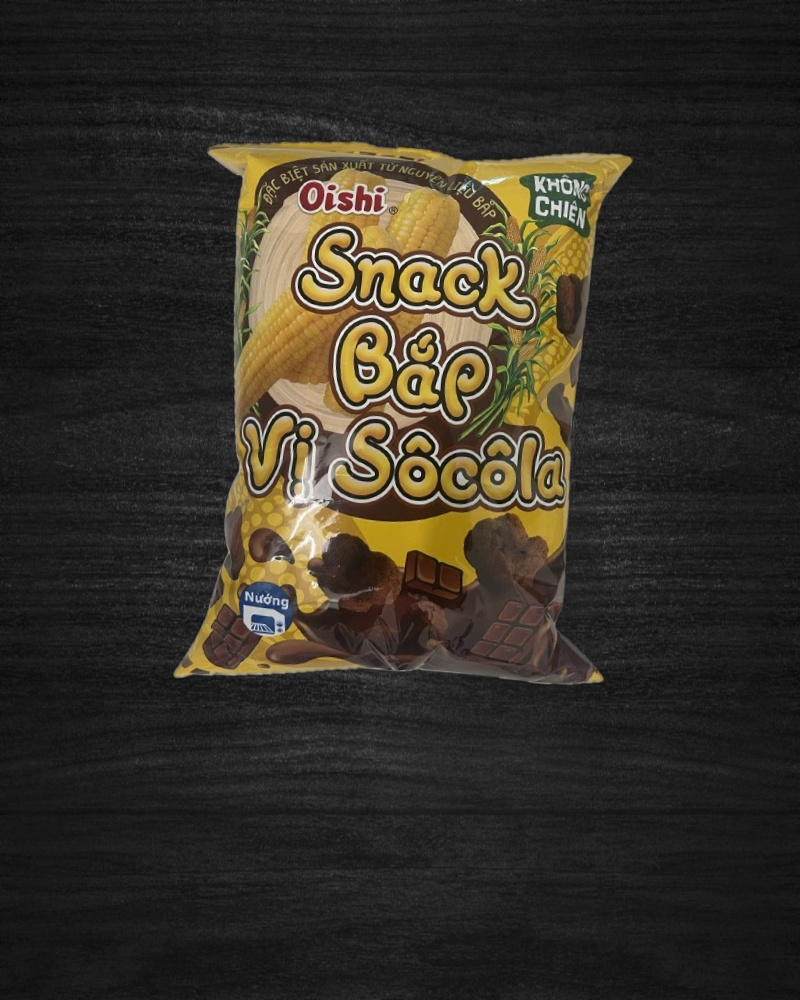Snack socola: (164, 123, 650, 704)
